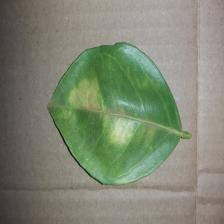greening: (46, 38, 194, 190)
